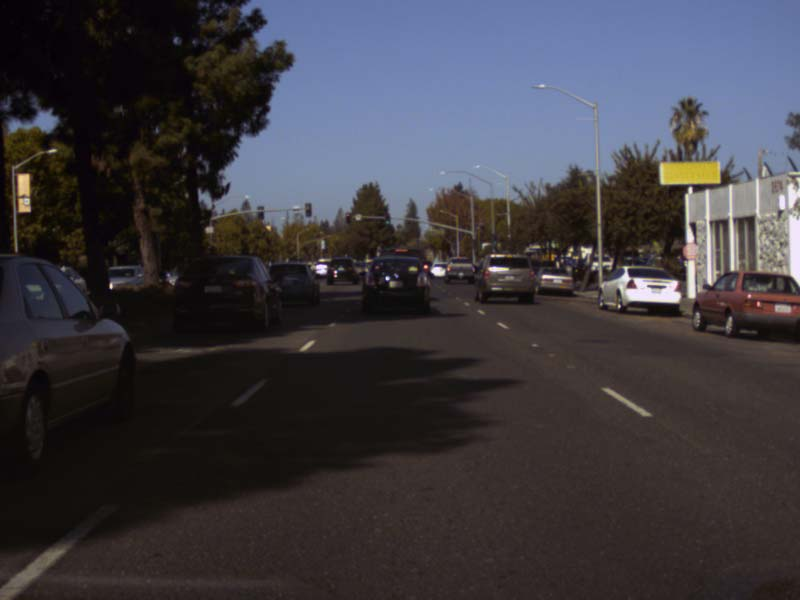Green: (385, 213, 389, 224), (493, 235, 497, 244)
Red: (345, 212, 350, 224)
